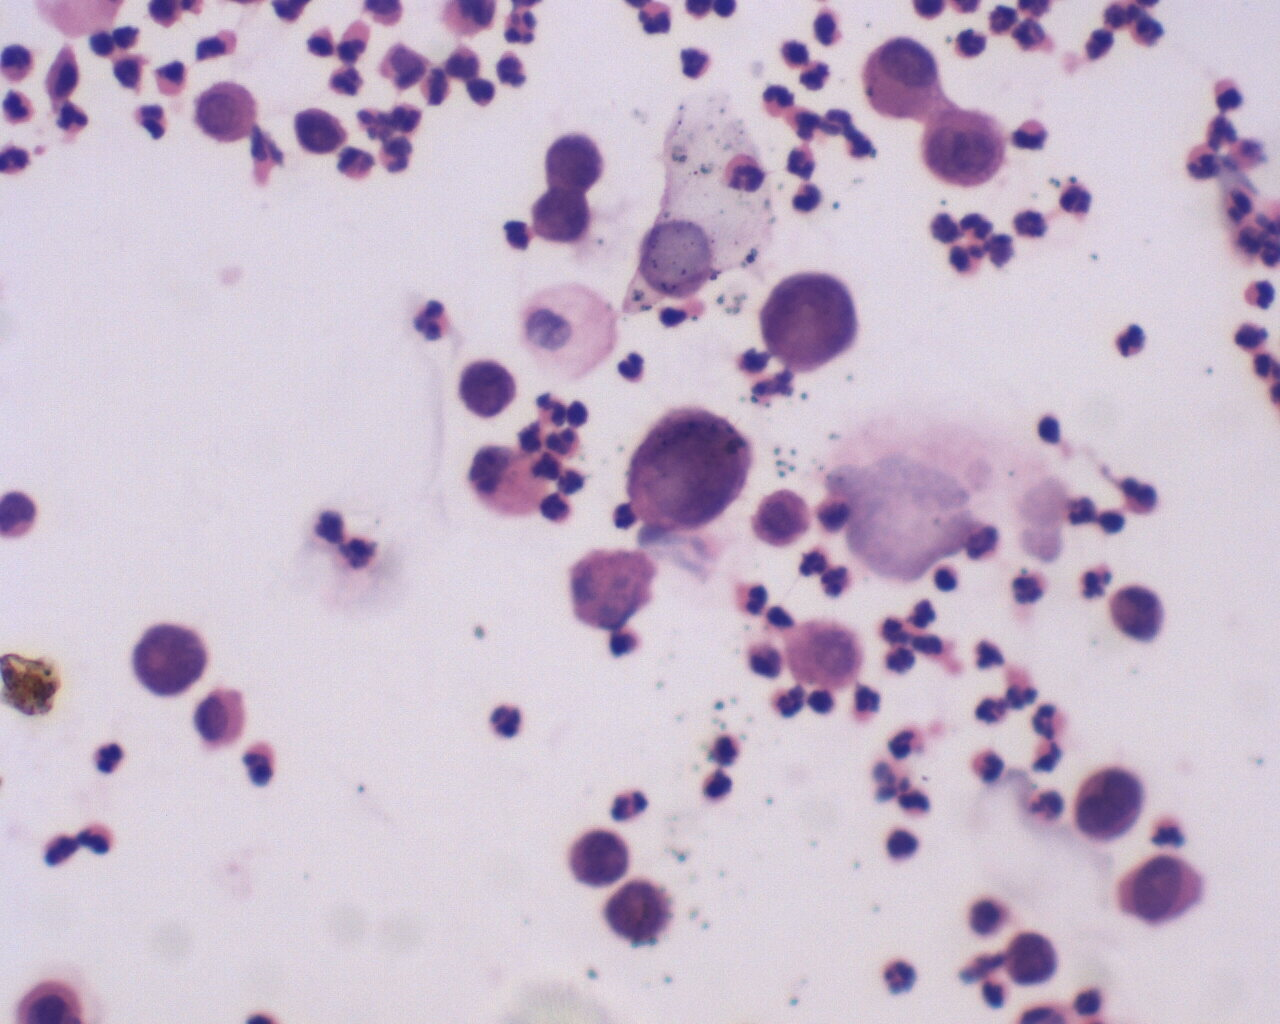ab: (626, 400, 751, 533), (758, 264, 865, 376), (1118, 848, 1213, 932), (924, 104, 1006, 192), (130, 618, 211, 696), (1070, 762, 1145, 845), (540, 129, 613, 190), (749, 483, 815, 551), (458, 354, 521, 419), (569, 827, 631, 892), (531, 183, 594, 242), (290, 104, 354, 159), (1005, 930, 1066, 986)
meso: (857, 34, 942, 120)
neutro: (408, 294, 453, 347), (721, 148, 769, 199), (1106, 318, 1153, 363), (481, 697, 529, 740), (376, 131, 419, 178), (606, 783, 653, 825), (1071, 561, 1120, 601), (328, 59, 376, 98), (497, 9, 548, 46), (88, 738, 127, 781), (1057, 176, 1096, 219), (968, 745, 1008, 786), (770, 680, 810, 721), (1030, 701, 1071, 740), (1011, 567, 1049, 609), (883, 954, 920, 997), (820, 563, 856, 604), (633, 3, 675, 37), (784, 142, 818, 178)
